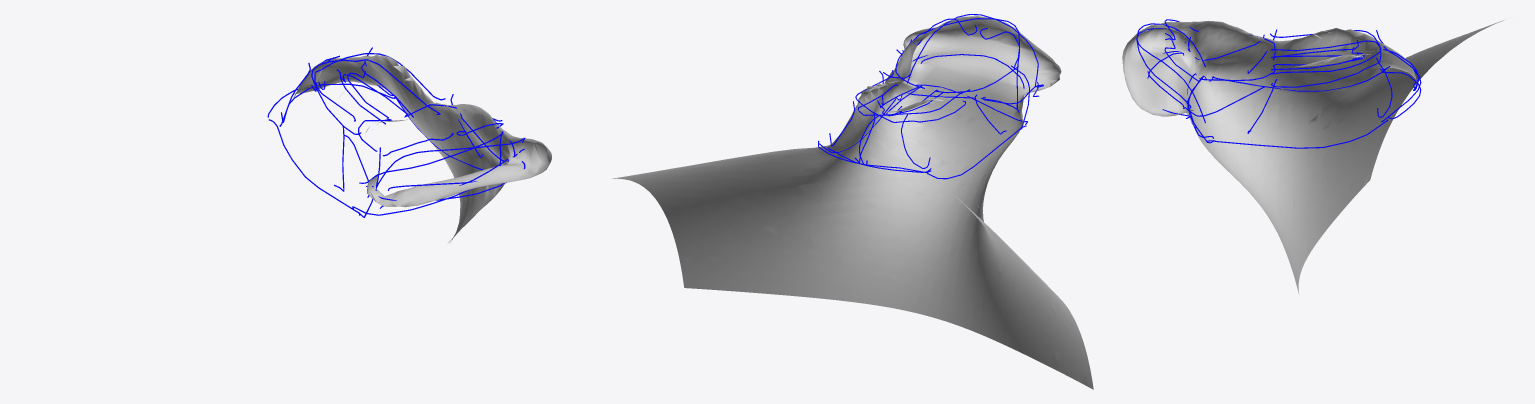
The model's file is cassie_p11_shoe_sketch_proxy.glb.
The picture shows the model from 3 angles, left to right: view 1: azimuth 30°, elevation 25°; view 2: azimuth 150°, elevation 25°; view 3: azimuth 270°, elevation 25°; orthographic projection. The views are drawn at different scales.
Visible parts, largest first — view 1: cassie_p11_shoe_surface, cassie_p11_shoe; view 2: cassie_p11_shoe_surface, cassie_p11_shoe; view 3: cassie_p11_shoe_surface, cassie_p11_shoe.
Boxes of the visible parts, left/top/right/bottom form: cassie_p11_shoe_surface: left=291, top=55, right=551, bottom=242; cassie_p11_shoe: left=267, top=47, right=525, bottom=217; cassie_p11_shoe_surface: left=612, top=16, right=1093, bottom=389; cassie_p11_shoe: left=818, top=14, right=1043, bottom=179; cassie_p11_shoe_surface: left=1122, top=20, right=1503, bottom=293; cassie_p11_shoe: left=1136, top=19, right=1421, bottom=148.
Size of the model in its own units: 1.75 by 0.9835 by 1.4.
